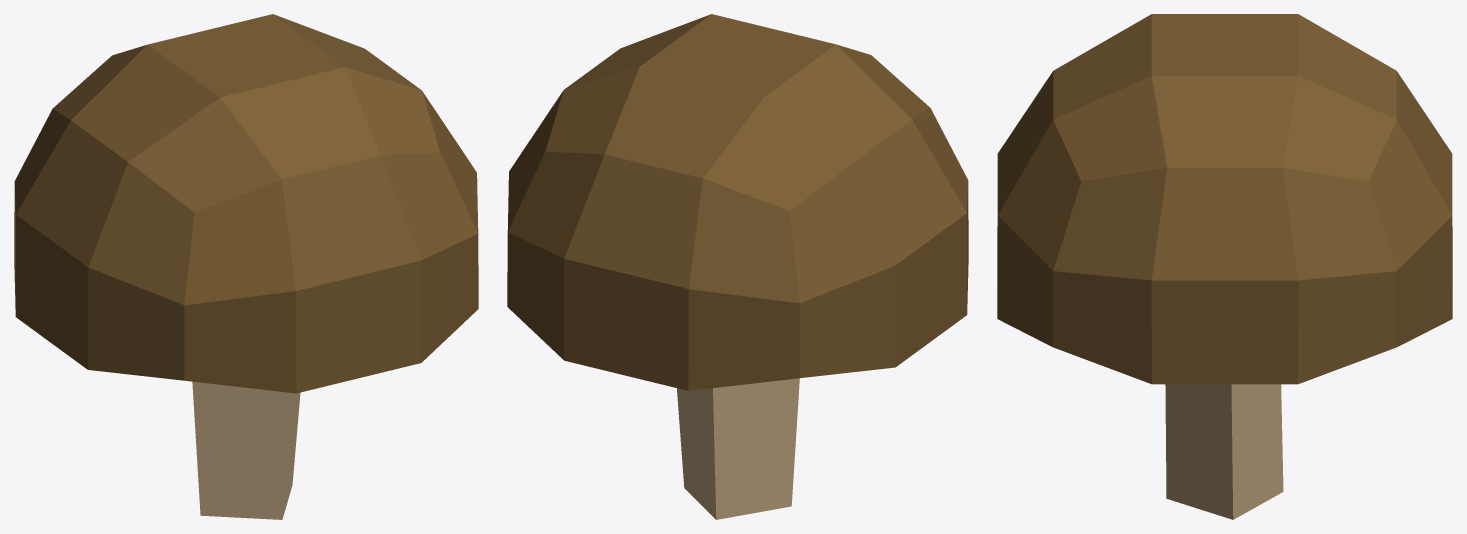
Rendered from svampBrun_liten.fbx.
3 renders of one model, left to right at view 1: azimuth 30°, elevation 25°; view 2: azimuth 150°, elevation 25°; view 3: azimuth 270°, elevation 25°, orthographic.
Visible parts, largest first — view 1: Brown_Simple; view 2: Brown_Simple; view 3: Brown_Simple.
Part boxes in pixels (x1=…): Brown_Simple: x1=14, y1=14, x2=478, y2=519; Brown_Simple: x1=507, y1=14, x2=968, y2=519; Brown_Simple: x1=997, y1=14, x2=1452, y2=519.
Bounding box in the file's own units: 21.79 × 23.78 × 21.79.
